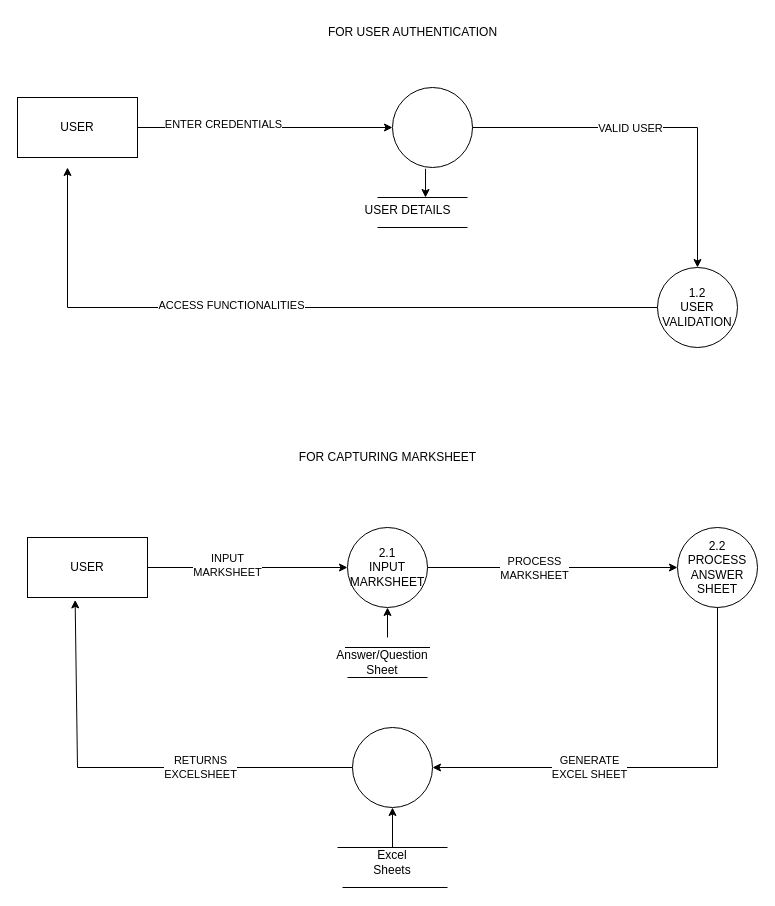
Some shapes in this 775 by 906 pixel diagram are drawn without their labels. The shapes that lost their labels are listed below. From the top down, each one's centre as x and y in pixels, then its label:
At point 432,127: "1.1 VALIDATE CREDENTIALS".
At point 392,767: "GENERATE EXCEL REPORT".
